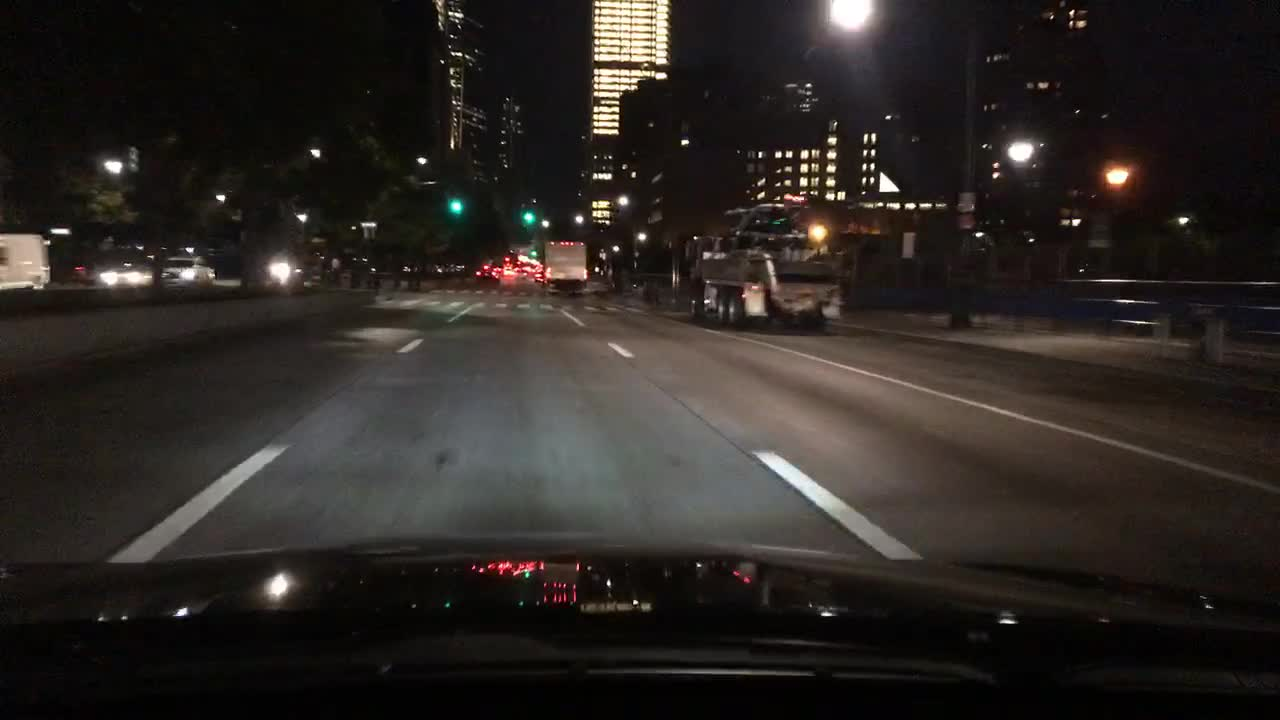car: (94, 258, 155, 290), (157, 253, 219, 282), (266, 253, 307, 282), (474, 261, 496, 282), (509, 266, 528, 280), (531, 266, 545, 280), (499, 265, 514, 277)
traffic light: (449, 185, 460, 212), (523, 202, 531, 224), (530, 243, 538, 258)
traffic sign: (955, 189, 973, 209), (957, 212, 973, 234)
truck: (678, 202, 840, 327), (0, 233, 50, 290), (541, 238, 589, 295), (50, 256, 104, 288)
